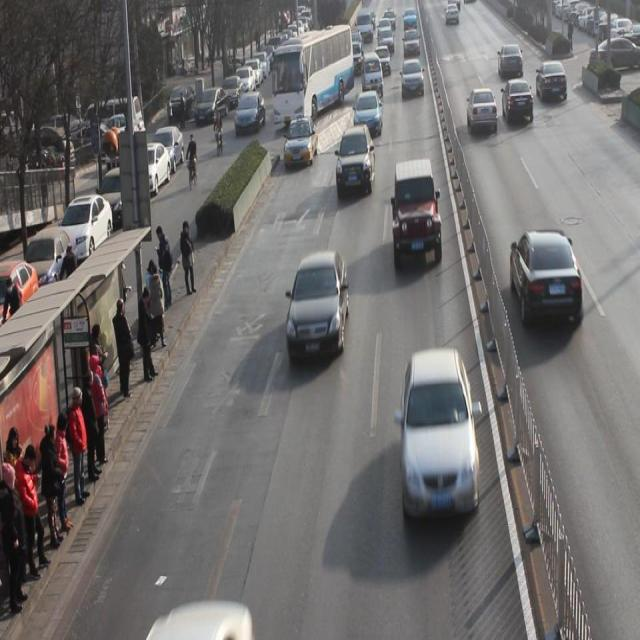car: (403, 347, 480, 515), (511, 228, 584, 330), (287, 250, 350, 362), (394, 160, 443, 270), (337, 124, 375, 197), (590, 33, 640, 74), (284, 115, 318, 166), (502, 78, 534, 127), (467, 86, 499, 134), (536, 61, 568, 105), (354, 90, 384, 136), (498, 42, 525, 79), (401, 59, 425, 100), (373, 45, 392, 76)
truck: (361, 50, 385, 96)
van: (272, 27, 352, 128)
